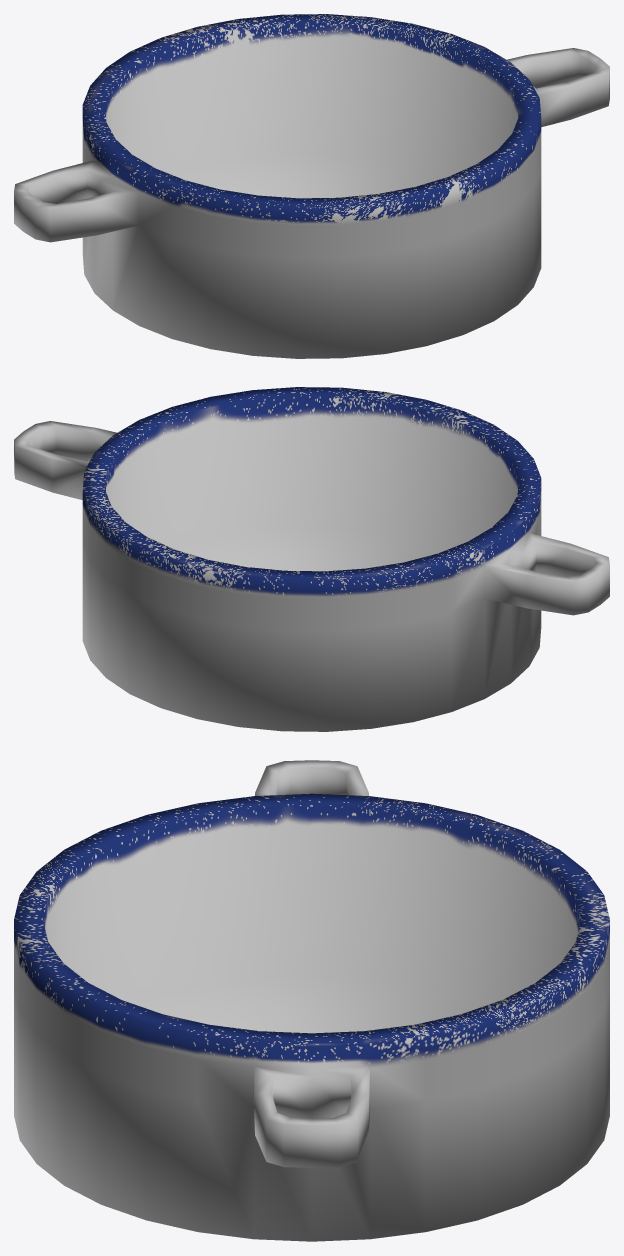
The model's file is kitchen_nabe.fbx.
3 renders of one model, top to bottom at view 1: azimuth 30°, elevation 25°; view 2: azimuth 150°, elevation 25°; view 3: azimuth 270°, elevation 25°, orthographic. The views are drawn at different scales.
Parts seen in each view (by area): view 1: nabe; view 2: nabe; view 3: nabe.
Boxes of the visible parts, x1,y1,x2,y2 form: nabe: [14, 14, 609, 358]; nabe: [14, 387, 609, 731]; nabe: [14, 760, 609, 1241].
Bounding box in the file's own units: 93.49 × 25.39 × 64.44.
Materials: 1 (1 with a texture image).
